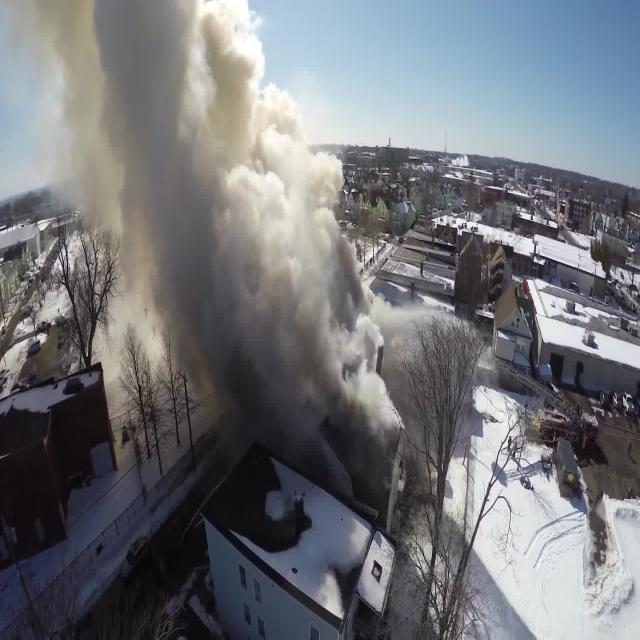Smoke: (23, 1, 402, 491)
